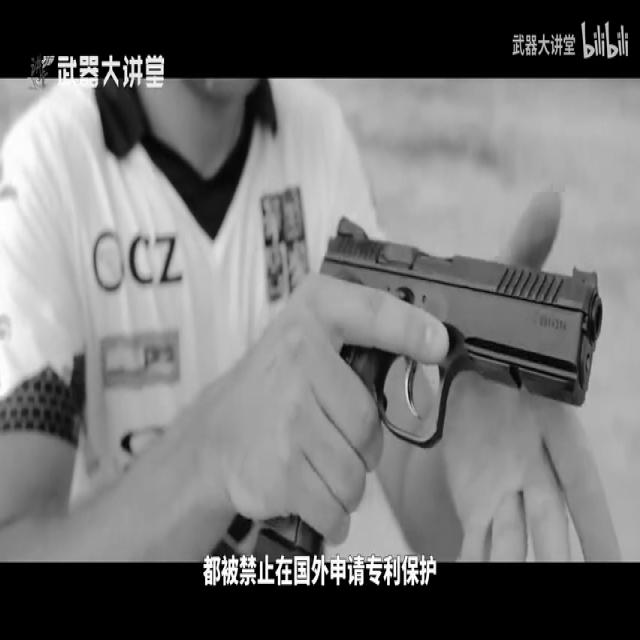Hand-Gun: (241, 176, 628, 574)
